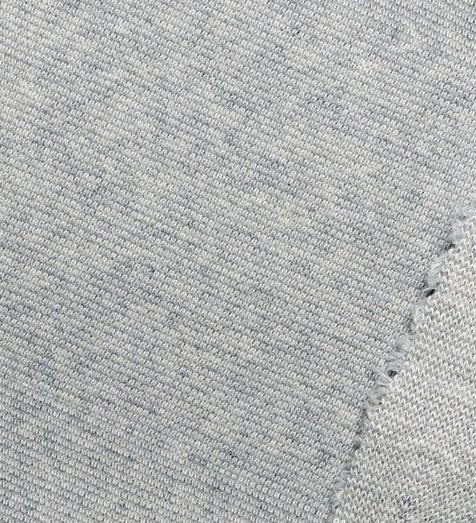slub: (319, 209, 475, 523)
